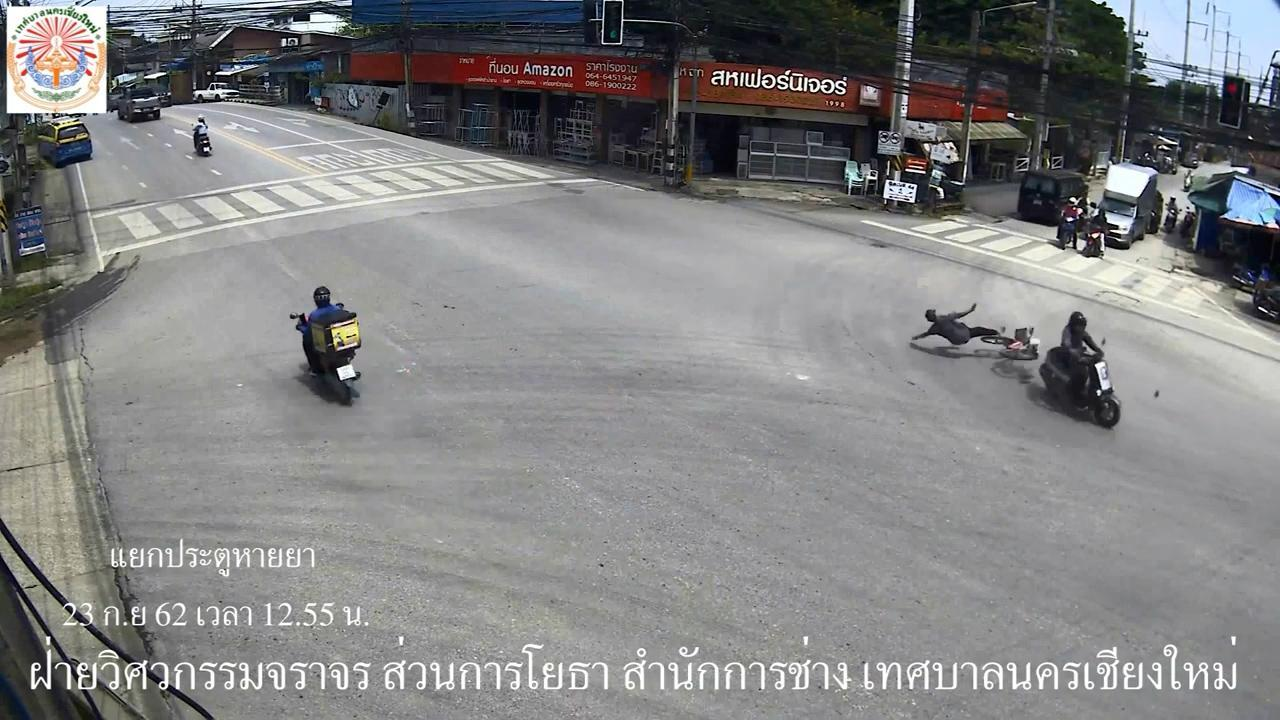accident: (909, 300, 1008, 361)
